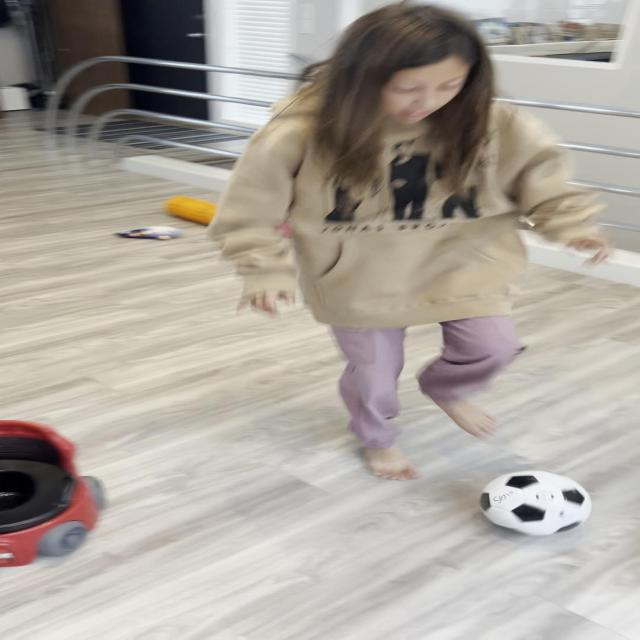Soccer Ball: (476, 470, 596, 534)
